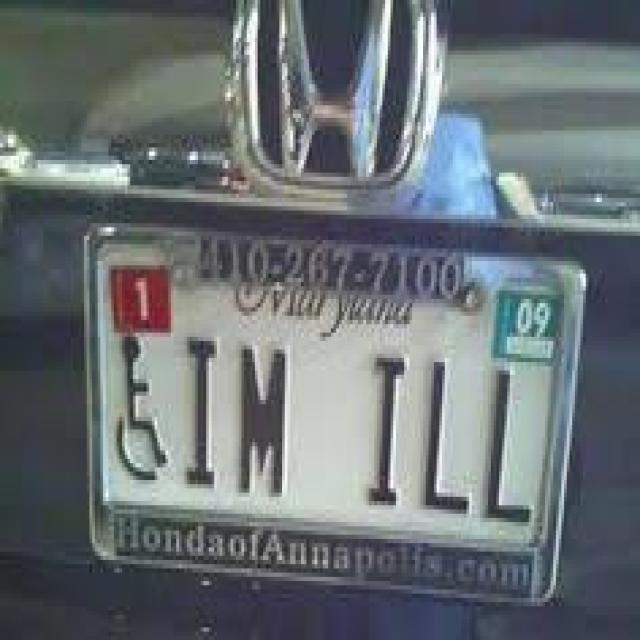symbol_of_access: (104, 334, 176, 492)
